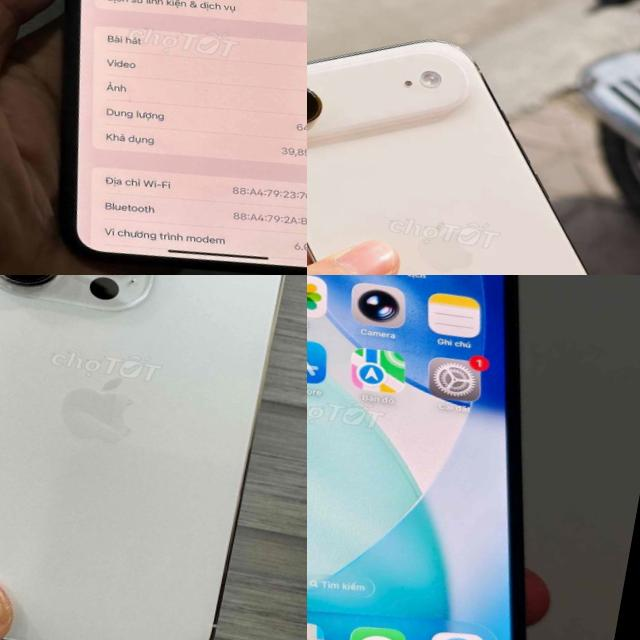gen_11: (0, 0, 307, 275)
gen_12_13: (307, 275, 620, 640)
gen_14: (0, 275, 307, 640)
gen_17: (307, 0, 640, 275)
